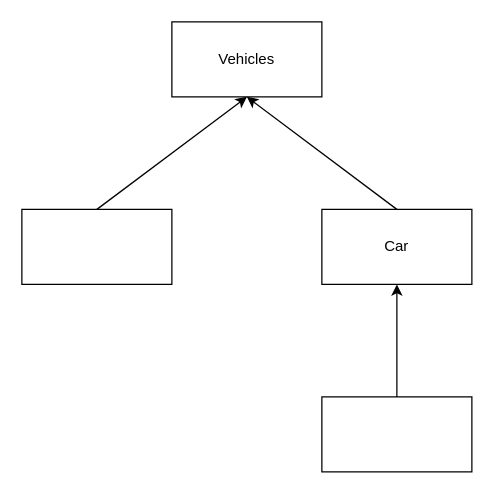
This 494x494 diagram has some shape labels left out. The shapes that lost their labels are listed below. From the top down, each one's centre as x and y in pixels, then its label:
At point (96, 246): "Truck".
At point (396, 434): "Sedan".
